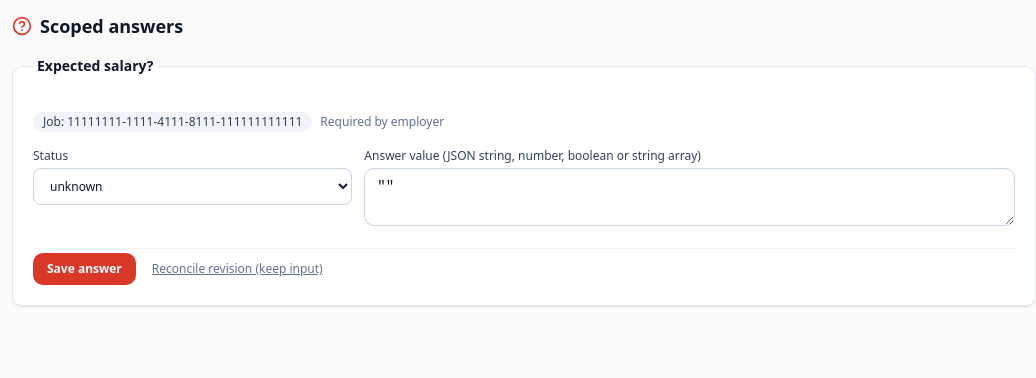
Scenario: retains a scoped answer after conflict and never resumes implicitly
Step 1. Select "confirmed" in the dropdown labelled "Status" → (193, 186), box top-left (33, 168), bottom-right (352, 205)
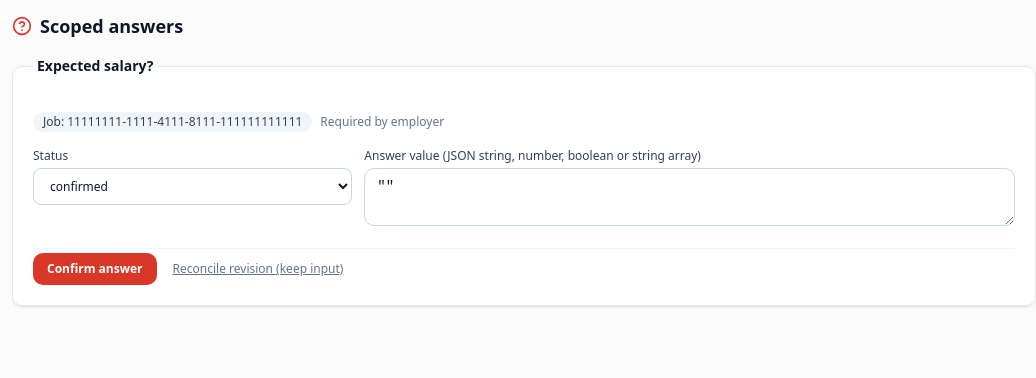
Step 2. Replace the text in the text box with "125000" → (690, 197), box top-left (364, 168), bottom-right (1015, 226)
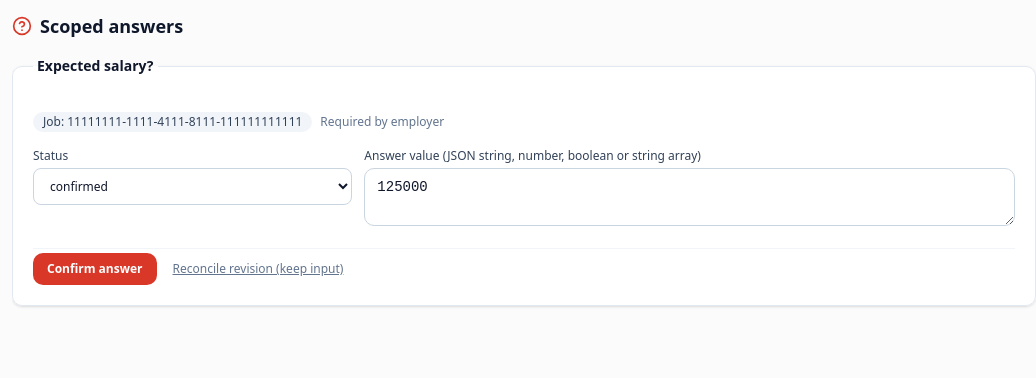
Step 3. Click the button "Confirm answer" → (95, 269), box top-left (33, 253), bottom-right (156, 285)
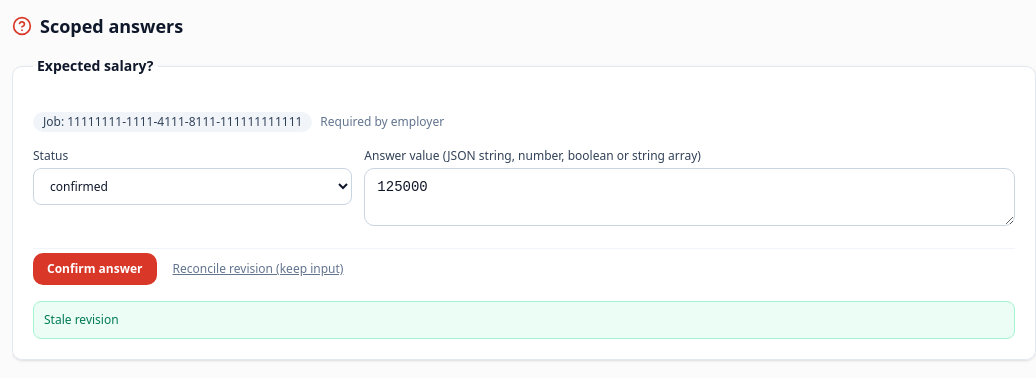
Expected: the text "Stale revision" is shown, top-left (33, 301), bottom-right (1015, 339)
